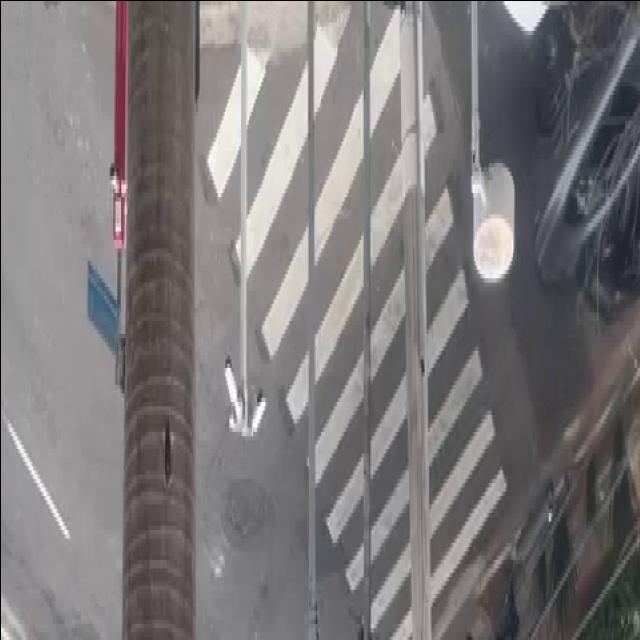car: (528, 0, 640, 329)
